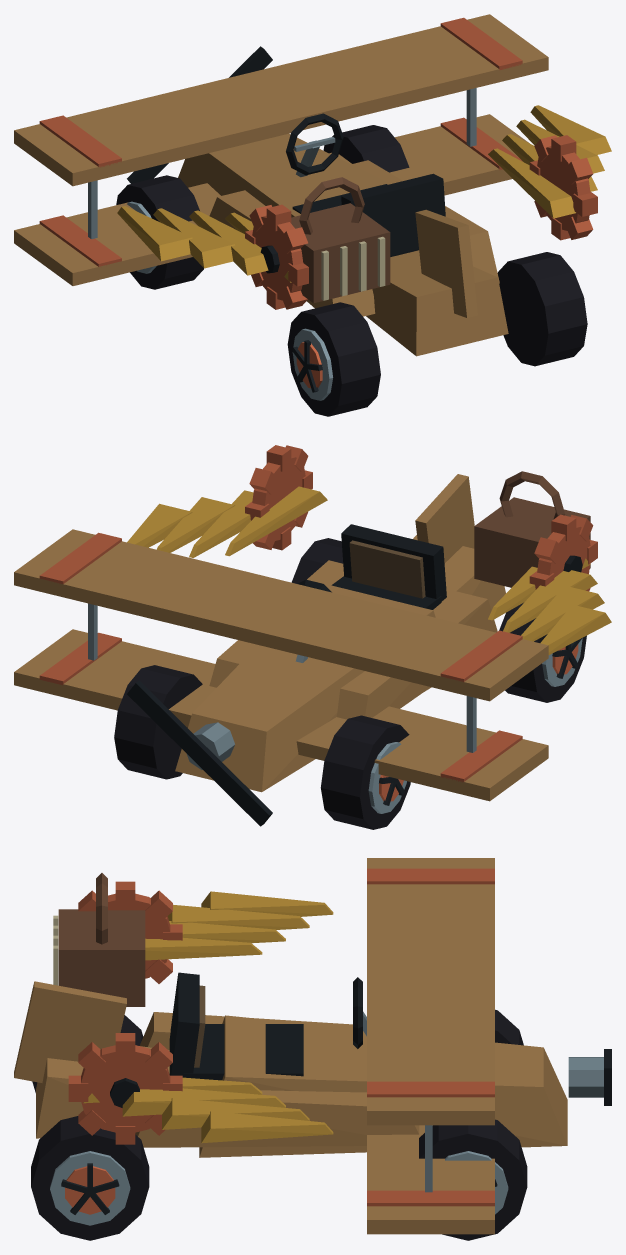
Rendered from kart.glb.
3 renders of one model, top to bottom at view 1: azimuth 30°, elevation 25°; view 2: azimuth 150°, elevation 25°; view 3: azimuth 270°, elevation 25°, orthographic. The views are drawn at different scales.
Parts seen in each view (by area): view 1: identity-biplane-biplane-dual-wings-and-propeller, identity-biplane-motif-wings-feather, identity-biplane-motif-gears, wheel-rear-left, identity-biplane-motif-basket, wheel-rear-right, identity-biplane-driver-cockpit, wheel-front-left, wheel-front-right; view 2: identity-biplane-biplane-dual-wings-and-propeller, identity-biplane-motif-wings-feather, wheel-front-left, identity-biplane-driver-cockpit, identity-biplane-motif-gears, identity-biplane-motif-basket, wheel-front-right, wheel-rear-left, wheel-rear-right; view 3: identity-biplane-biplane-dual-wings-and-propeller, identity-biplane-motif-wings-feather, wheel-rear-right, identity-biplane-motif-gears, identity-biplane-motif-basket, identity-biplane-driver-cockpit, wheel-front-right, wheel-front-left.
Boxes of the visible parts, x1,y1,x2,y2 form: identity-biplane-biplane-dual-wings-and-propeller: (14, 14, 548, 356); identity-biplane-motif-wings-feather: (117, 105, 611, 282); identity-biplane-motif-gears: (245, 135, 597, 309); wheel-rear-left: (287, 302, 380, 416); identity-biplane-motif-basket: (291, 177, 390, 303); wheel-rear-right: (497, 252, 587, 366); identity-biplane-driver-cockpit: (286, 113, 445, 256); wheel-front-left: (116, 175, 203, 289); wheel-front-right: (323, 125, 409, 172); identity-biplane-biplane-dual-wings-and-propeller: (14, 474, 548, 826); identity-biplane-motif-wings-feather: (127, 486, 611, 654); wheel-front-left: (320, 715, 410, 829); identity-biplane-driver-cockpit: (295, 524, 446, 662); identity-biplane-motif-gears: (245, 445, 597, 591); identity-biplane-motif-basket: (474, 471, 590, 587); wheel-front-right: (114, 665, 202, 779); wheel-rear-left: (499, 602, 586, 702); wheel-rear-right: (291, 538, 343, 583); identity-biplane-biplane-dual-wings-and-propeller: (14, 858, 611, 1234); identity-biplane-motif-wings-feather: (83, 891, 333, 1143); wheel-rear-right: (31, 1116, 149, 1240); identity-biplane-motif-gears: (68, 881, 182, 1144); identity-biplane-motif-basket: (53, 873, 145, 1006); identity-biplane-driver-cockpit: (169, 972, 366, 1080); wheel-front-right: (419, 1119, 527, 1240); wheel-front-left: (495, 1009, 523, 1045).
Size of the model in its own units: 3.04 by 1.37 by 3.04.
